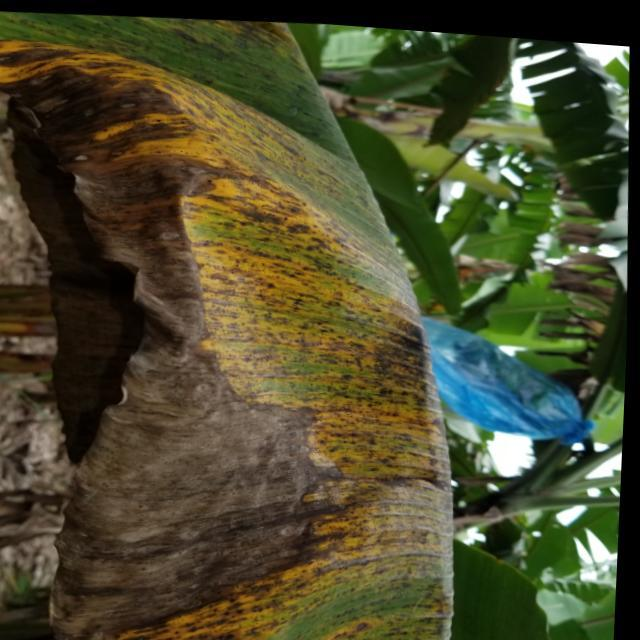Early_rust: (0, 5, 461, 640)
